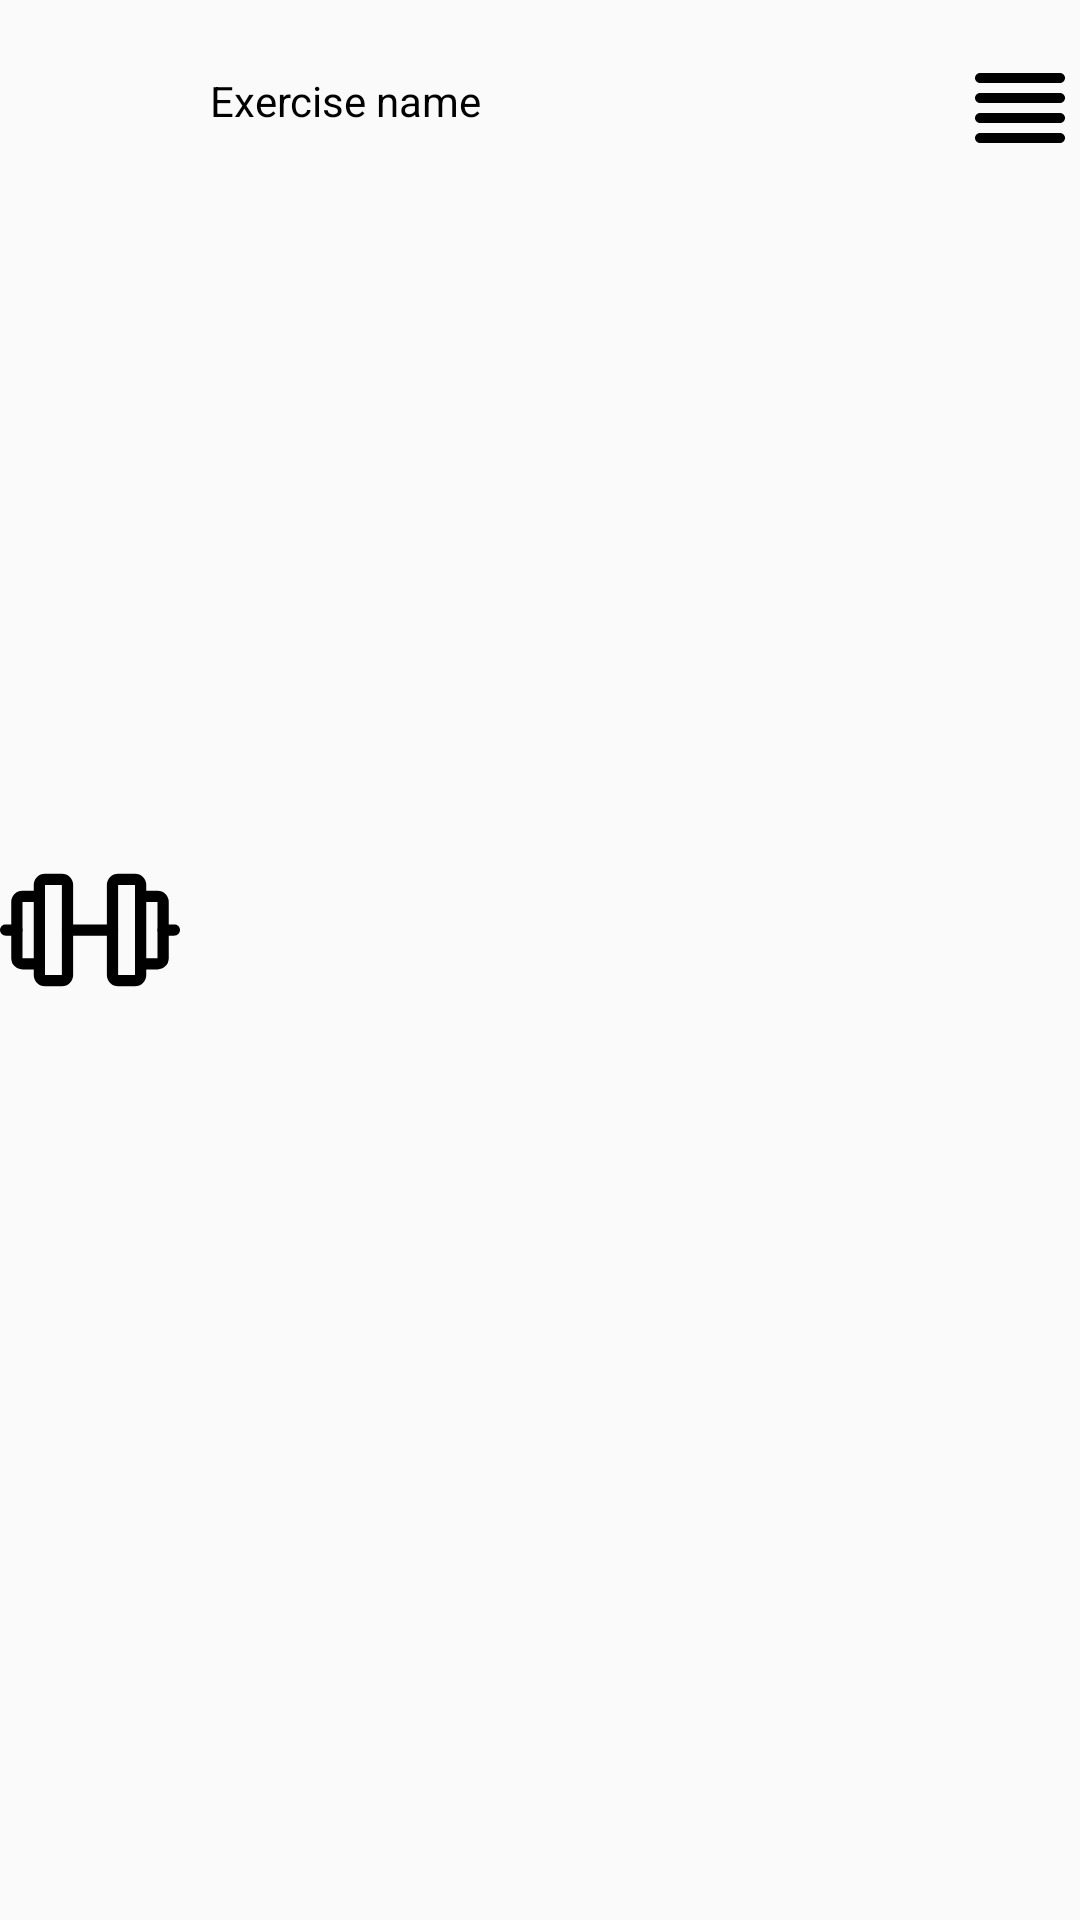

Locate icon controls on the screen. Image size 1080*1920, boxes as box=[x1, y1, x2, y2].
barbell: box=[0, 873, 180, 987]
reorder: box=[975, 73, 1065, 143]
